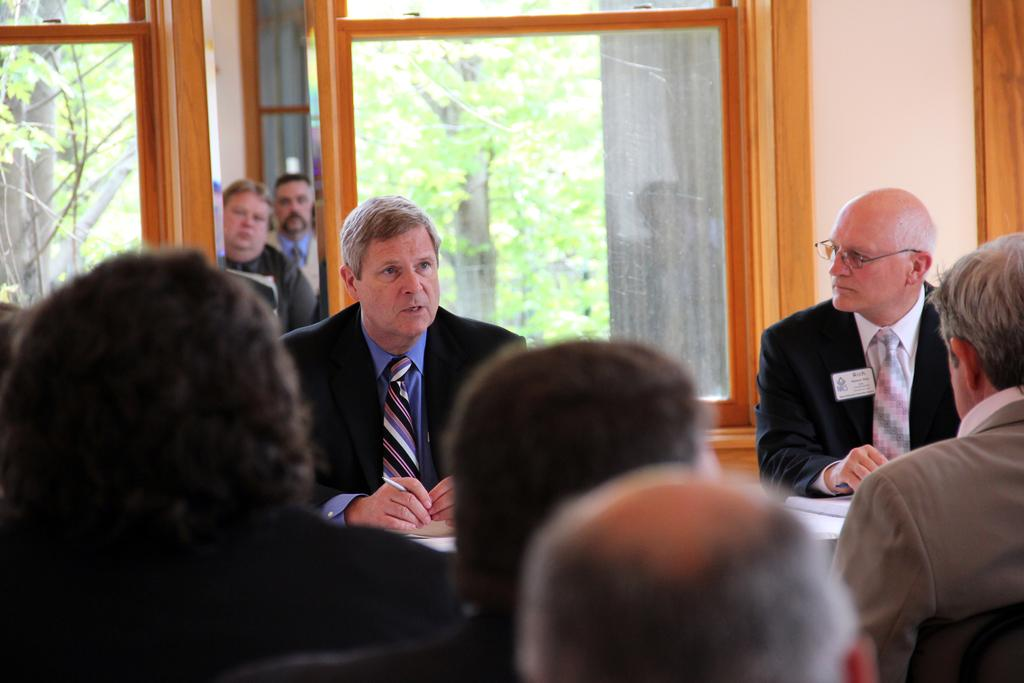Sem Máscara: (354, 227, 435, 334), (828, 208, 903, 305), (218, 188, 268, 253), (269, 173, 307, 234)
